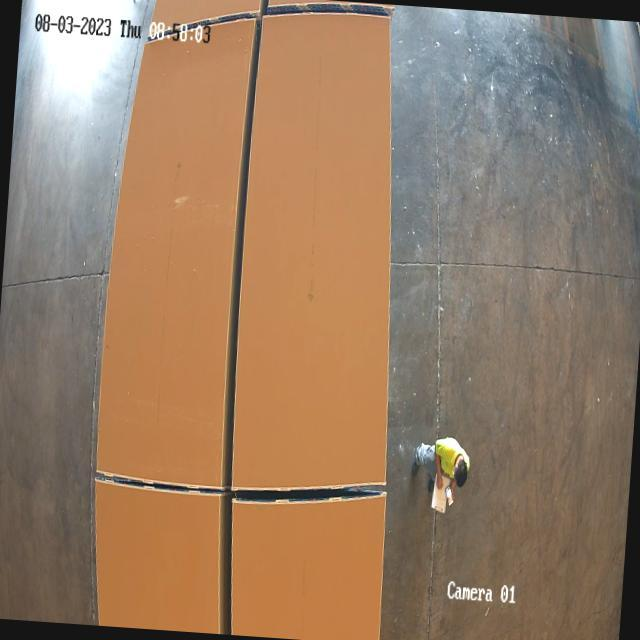person: (408, 421, 474, 526)
